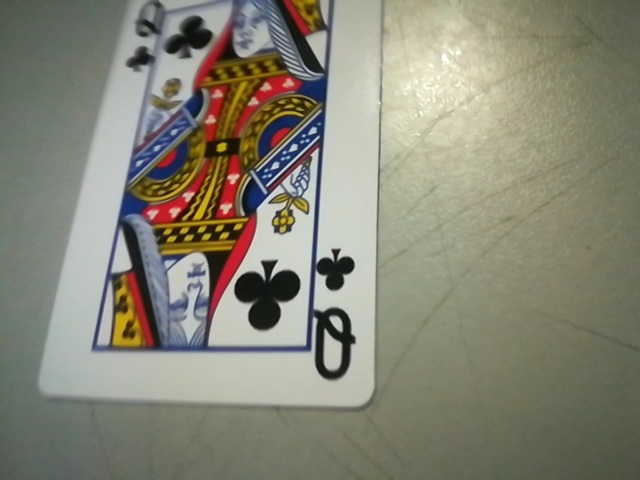mh q: (304, 239, 369, 398)
